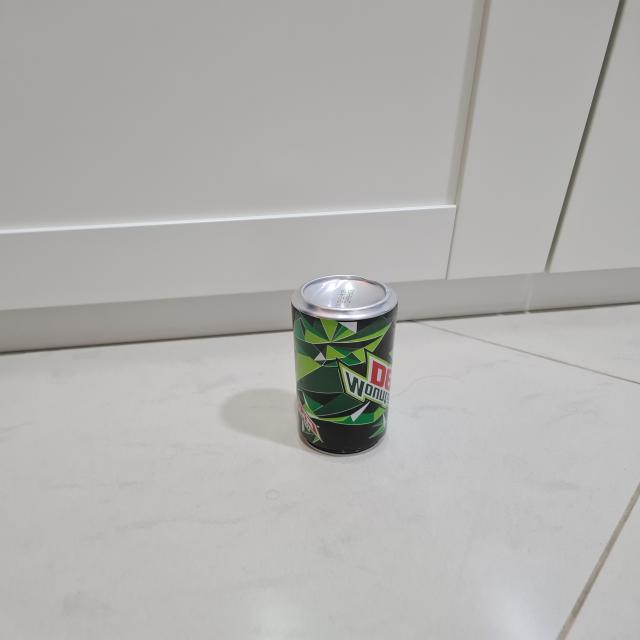can: (288, 270, 396, 456)
